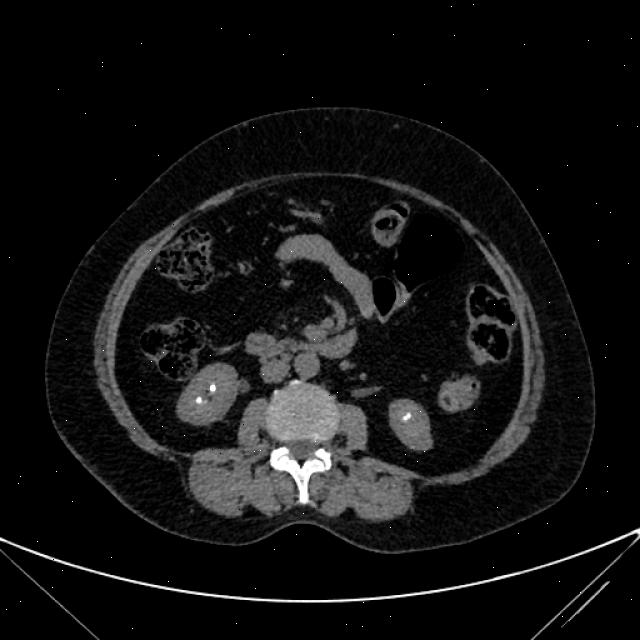kidneystone: (401, 412, 412, 422), (209, 384, 218, 392), (195, 396, 202, 403)
